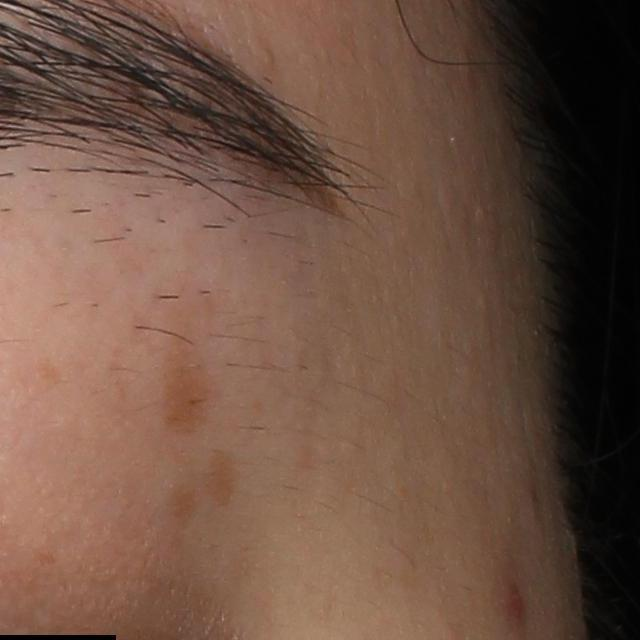melasma: (161, 310, 210, 436), (203, 445, 234, 504)
